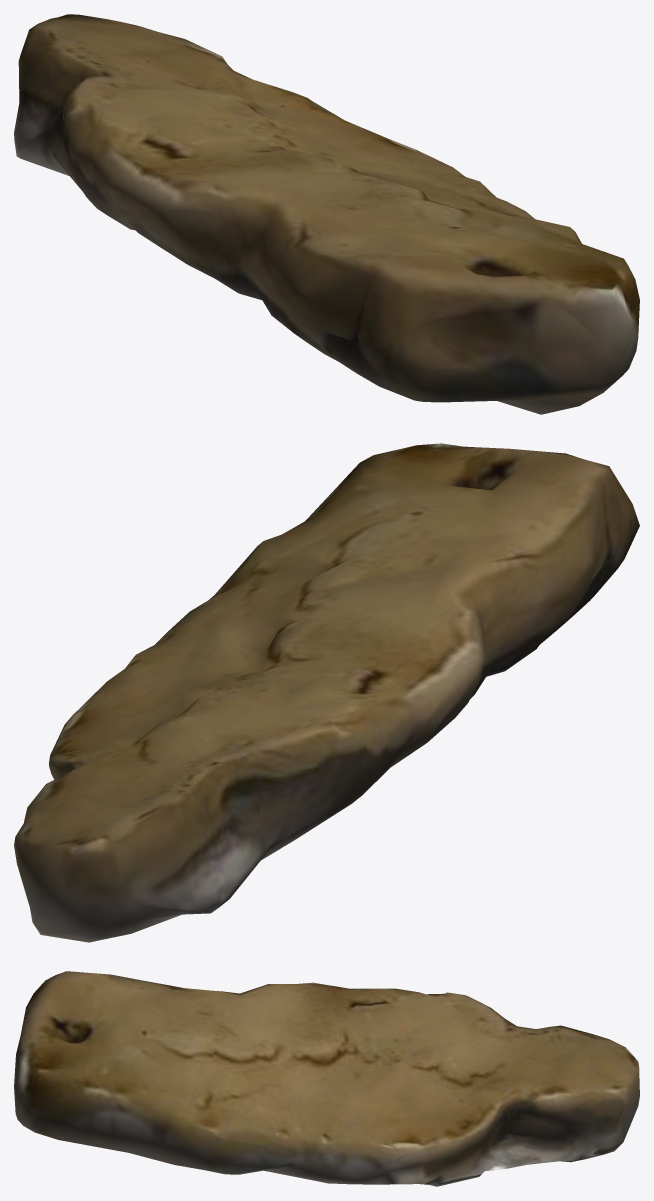
The model's file is hall.glb.
3 renders of one model, top to bottom at view 1: azimuth 30°, elevation 25°; view 2: azimuth 150°, elevation 25°; view 3: azimuth 270°, elevation 25°, orthographic. The views are drawn at different scales.
Bounding box in the file's own units: 0.2404 × 0.1369 × 0.5633.
Materials: 1 (1 with a texture image).
